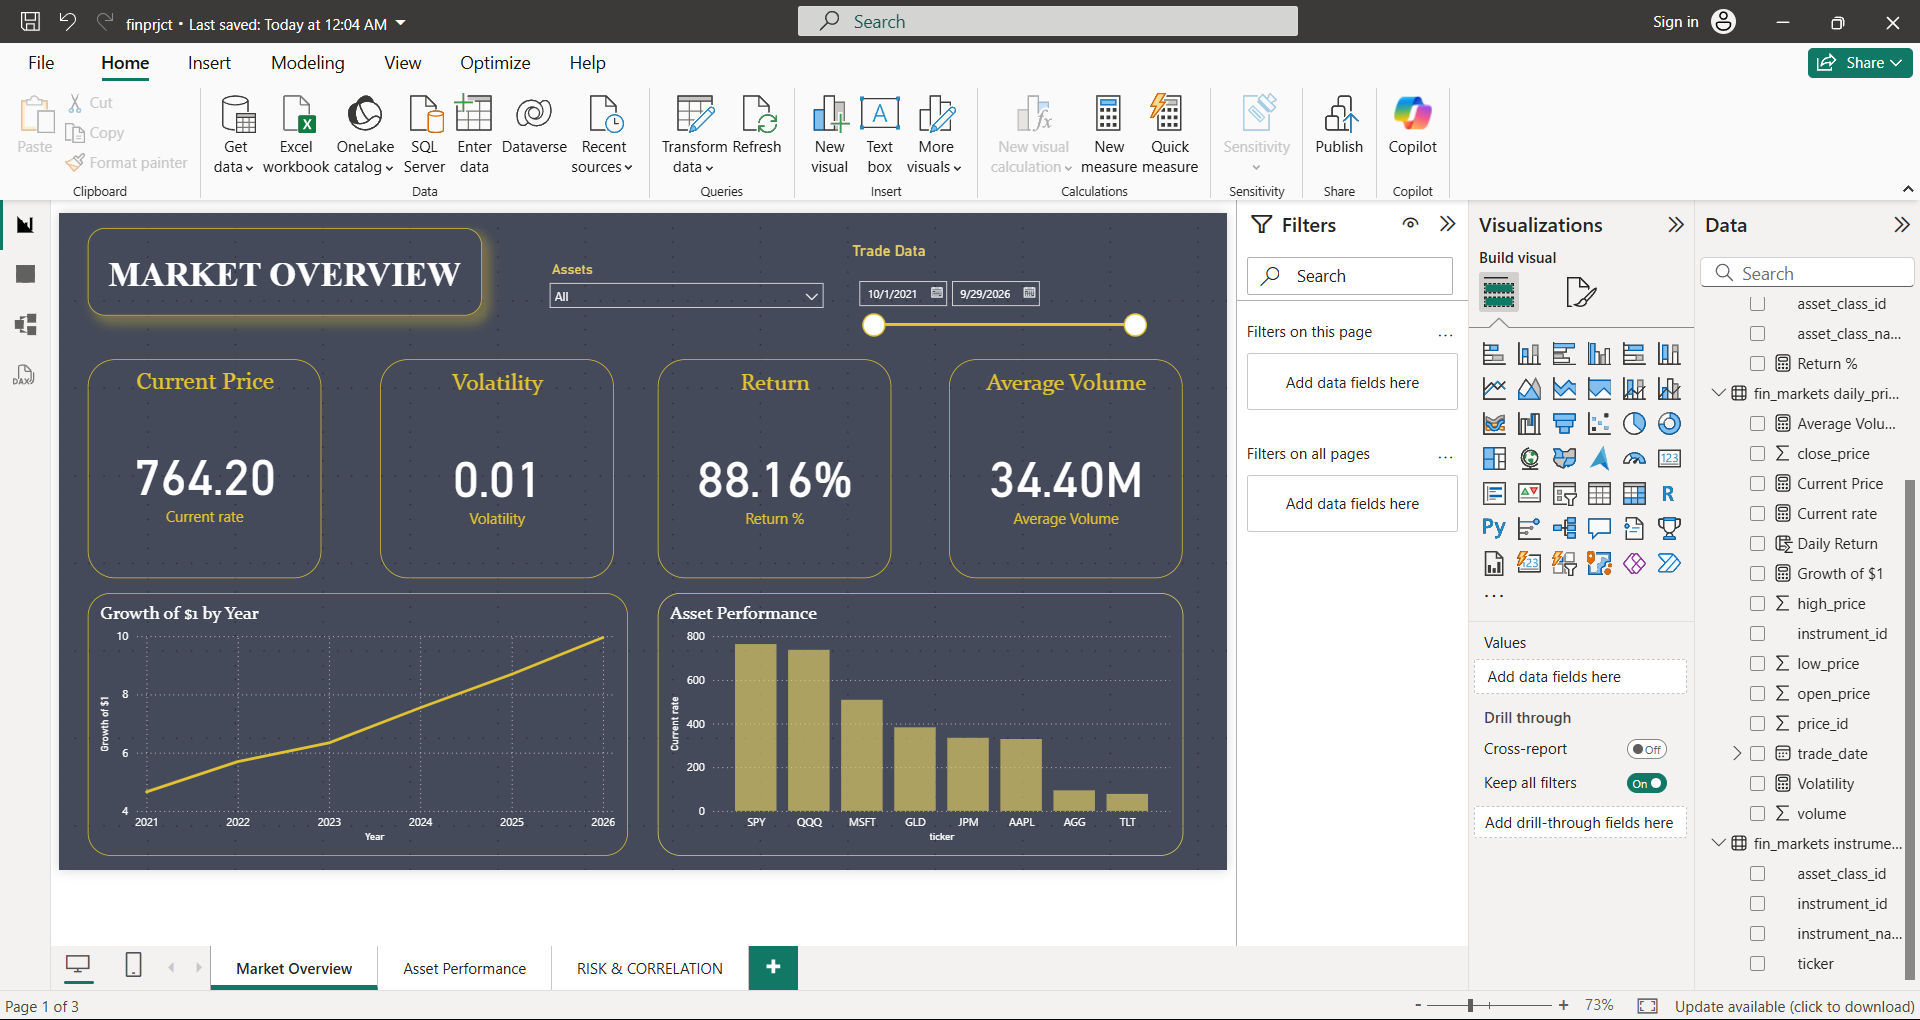

What the dashboard file says about the page in this screenshot:
{"tool":"powerbi","page":{"name":"Market Overview","canvas":[1280,720],"ordinal":0},"visuals":[{"type":"card","title":"Current Price","fields":{"Values":["fin_markets daily_prices.Current rate"]},"box":[32,160,256,240],"z":0},{"type":"card","title":"Return","fields":{"Values":["fin_markets asset_classes.Return %"]},"box":[656,160,256,240],"z":1000},{"type":"card","title":"Volatility","fields":{"Values":["fin_markets daily_prices.Volatility"]},"box":[352,160,256,240],"z":2000},{"type":"card","title":"Average Volume","fields":{"Values":["fin_markets daily_prices.Average Volume"]},"box":[976,160,256,240],"z":3000},{"type":"lineChart","fields":{"Y":["fin_markets daily_prices.Growth of $1"],"Category":["fin_markets daily_prices.trade_date.Variation.Date Hierarchy.Year"]},"box":[32,416,592,288],"z":4000},{"type":"slicer","fields":{"Values":["fin_markets instruments.instrument_name"]},"box":[528,48,320,96],"z":5000},{"type":"slicer","title":"Trade Data","fields":{"Values":["fin_markets daily_prices.trade_date"]},"box":[864,32,336,128],"z":6000},{"type":"textbox","box":[32,16,432,96],"z":7000},{"type":"clusteredColumnChart","title":"Asset Performance","fields":{"Category":["fin_markets instruments.ticker"],"Y":["fin_markets daily_prices.Current rate"]},"box":[656,416,576,288],"z":8000}]}

Visuals, with their boxes on the page's 1280x720 design canvas (x1, y1, x2, y2). These are canvas units, not pixel positions in the 1920x1020 screenshot, which may show the page scaled, cropped or inside an application window:
"Current Price" card: <box>32,160,288,400</box>
"Return" card: <box>656,160,912,400</box>
"Volatility" card: <box>352,160,608,400</box>
"Average Volume" card: <box>976,160,1232,400</box>
lineChart - fin_markets daily_prices.Growth of $1 x fin_markets daily_prices.trade_date.Variation.Date Hierarchy.Year: <box>32,416,624,704</box>
slicer - fin_markets instruments.instrument_name: <box>528,48,848,144</box>
"Trade Data" slicer: <box>864,32,1200,160</box>
textbox: <box>32,16,464,112</box>
"Asset Performance" clusteredColumnChart: <box>656,416,1232,704</box>
